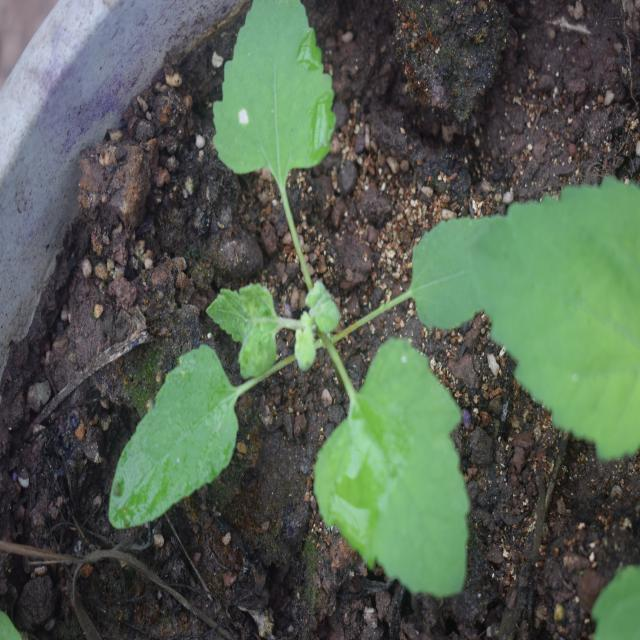cocklebur: (124, 0, 512, 609)
